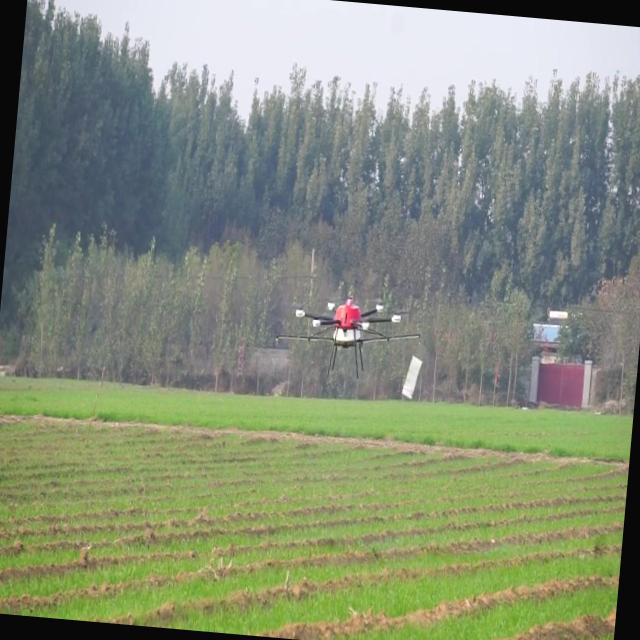drone: (270, 283, 426, 385)
